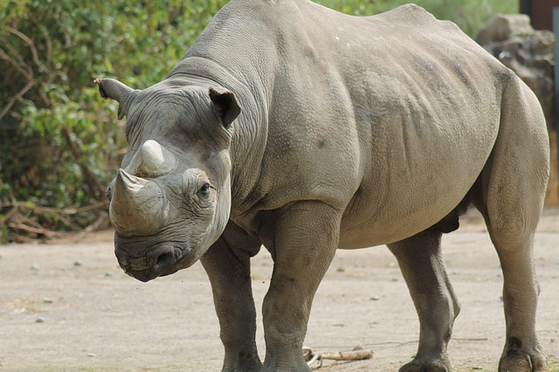Rhinoceros: (86, 5, 551, 369)
